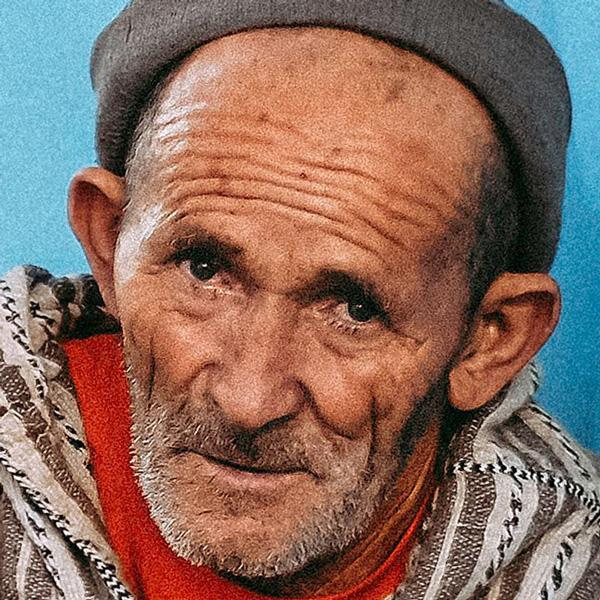Eyes: (311, 282, 393, 341), (161, 243, 239, 298)
